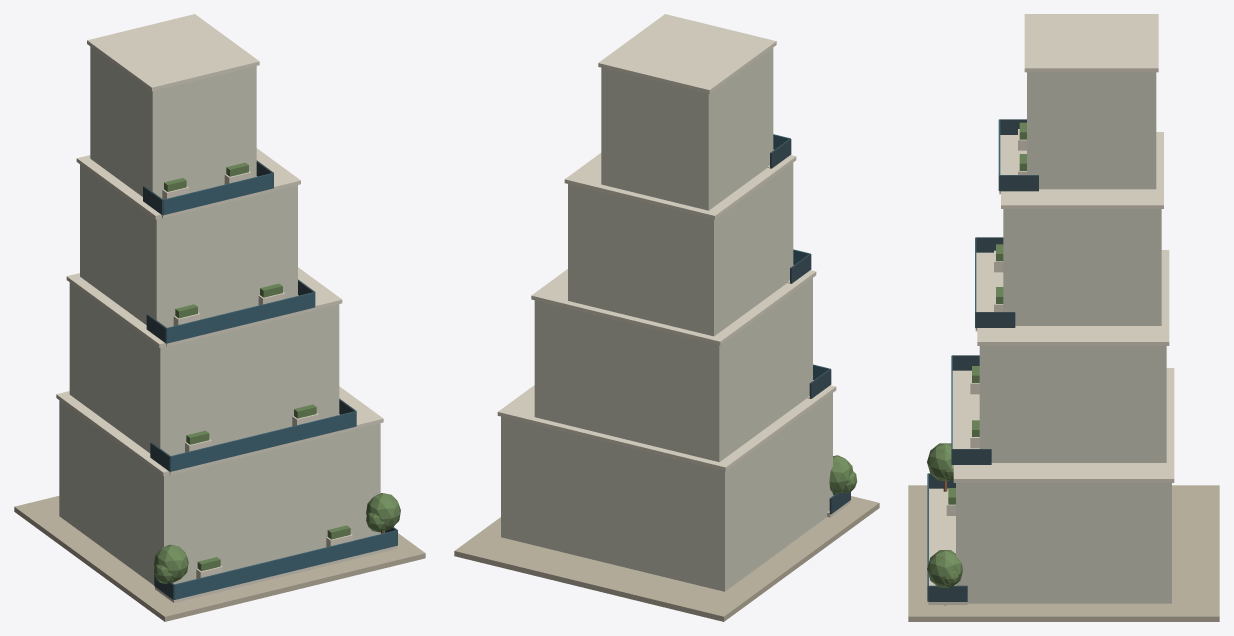
The model's file is residence_lod.glb.
3 views of the same model, side by side, from view 1: azimuth 30°, elevation 25°; view 2: azimuth 150°, elevation 25°; view 3: azimuth 270°, elevation 25° (orthographic). The views are drawn at different scales.
Visible parts, largest first — view 1: residence_Building_Volume, residence_Building_Volume.001, residence_Building_Volume.002, residence_Building_Volume.003, residence_Site_Paving, residence_Roof_Coping.003, residence_Balcony_Glass, residence_Balcony_Glass.001, residence_Balcony_Glass.002, residence_Roof_Coping, residence_Roof_Coping.001, residence_Balcony_Glass.003 (+5 smaller); view 2: residence_Building_Volume, residence_Building_Volume.001, residence_Building_Volume.002, residence_Building_Volume.003, residence_Site_Paving, residence_Roof_Coping.003, residence_Roof_Coping, residence_Roof_Coping.001, residence_Roof_Coping.002, residence_Tree_Crown; view 3: residence_Building_Volume, residence_Building_Volume.001, residence_Building_Volume.002, residence_Building_Volume.003, residence_Site_Paving, residence_Roof_Coping.003, residence_Roof_Coping, residence_Roof_Coping.001, residence_Roof_Coping.002, residence_Balcony_Slab.001, residence_Balcony_Slab, residence_Balcony_Slab.002 (+7 smaller).
Part boxes in pixels (box(x1,y1,x2,y2)): residence_Building_Volume: box(59, 400, 380, 585); residence_Building_Volume.001: box(69, 282, 339, 455); residence_Building_Volume.002: box(80, 164, 297, 327); residence_Building_Volume.003: box(90, 46, 256, 198); residence_Site_Paving: box(14, 496, 425, 621); residence_Roof_Coping.003: box(87, 14, 259, 91); residence_Balcony_Glass: box(174, 530, 397, 599); residence_Balcony_Glass.001: box(170, 411, 356, 471); residence_Balcony_Glass.002: box(166, 292, 314, 343); residence_Roof_Coping: box(56, 386, 383, 475); residence_Roof_Coping.001: box(66, 267, 342, 347); residence_Balcony_Glass.003: box(163, 173, 273, 215); residence_Building_Volume: box(501, 393, 832, 591); residence_Building_Volume.001: box(534, 278, 812, 462); residence_Building_Volume.002: box(568, 163, 793, 336); residence_Building_Volume.003: box(601, 48, 773, 210); residence_Site_Paving: box(454, 496, 879, 621); residence_Roof_Coping.003: box(598, 14, 776, 93); residence_Roof_Coping: box(497, 385, 836, 471); residence_Roof_Coping.001: box(531, 269, 816, 345); residence_Roof_Coping.002: box(564, 153, 796, 219); residence_Tree_Crown: box(829, 455, 853, 494); residence_Building_Volume: box(956, 483, 1171, 603); residence_Building_Volume.001: box(979, 346, 1166, 462); residence_Building_Volume.002: box(1003, 209, 1161, 325); residence_Building_Volume.003: box(1027, 72, 1156, 189); residence_Site_Paving: box(908, 485, 1219, 621); residence_Roof_Coping.003: box(1024, 14, 1158, 72); residence_Roof_Coping: box(953, 368, 1174, 482); residence_Roof_Coping.001: box(977, 250, 1169, 345); residence_Roof_Coping.002: box(1001, 132, 1163, 208); residence_Balcony_Slab.001: box(952, 370, 979, 468); residence_Balcony_Slab: box(928, 488, 967, 604); residence_Balcony_Slab.002: box(975, 252, 1003, 331).
Bounding box in the file's own units: 11.8 × 20.86 × 11.8.
